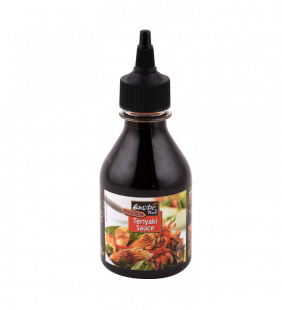EXOTIC FOOD: (99, 29, 193, 280)
